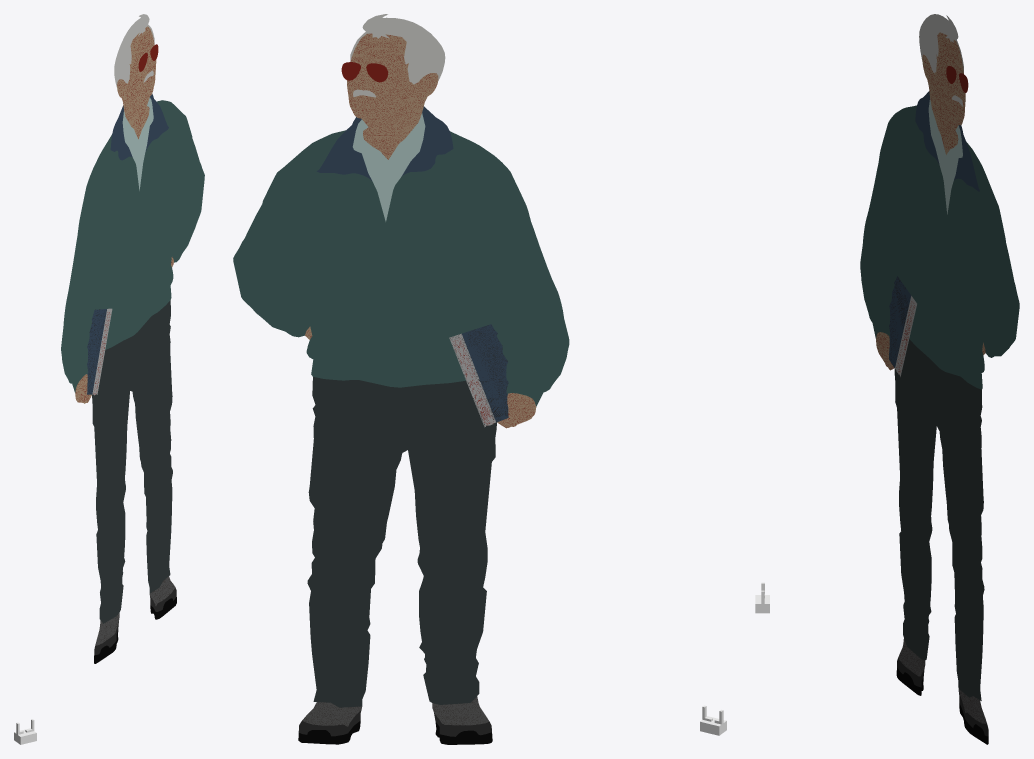
File: GenericGripper.dae
The picture shows the model from 3 angles, left to right: view 1: azimuth 30°, elevation 25°; view 2: azimuth 150°, elevation 25°; view 3: azimuth 270°, elevation 25°; orthographic projection. The views are drawn at different scales.
Parts seen in each view (by area): view 1: Steve (×11), SketchUp; view 2: Steve (×12); view 3: Steve (×10).
Boxes of the visible parts, <box> form: Steve (×11): <box>61,14,204,645</box>; SketchUp: <box>14,719,36,744</box>; Steve (×12): <box>233,14,569,726</box>; Steve (×10): <box>860,14,1019,723</box>.
Size of the model in its own units: 33.99 by 22.81 by 66.71.
